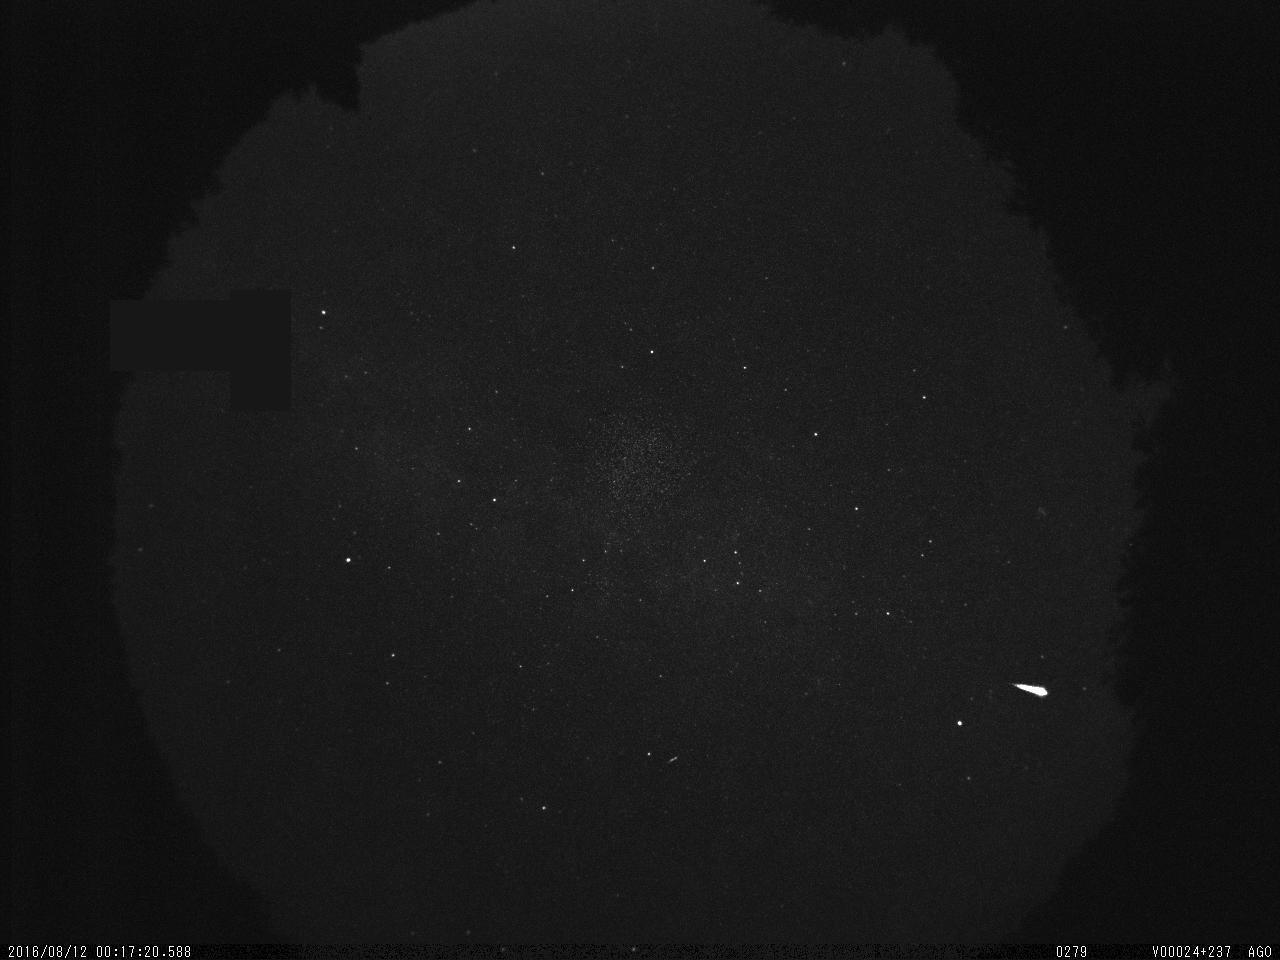meteor: (989, 650, 1094, 731)
